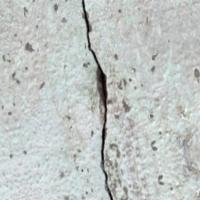crack: (71, 0, 129, 199)
